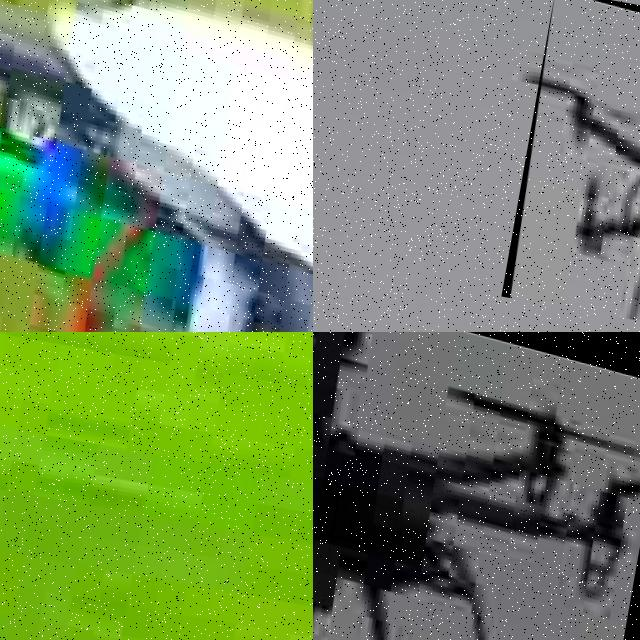drone: (0, 0, 313, 332), (313, 332, 640, 640), (500, 0, 640, 332)
